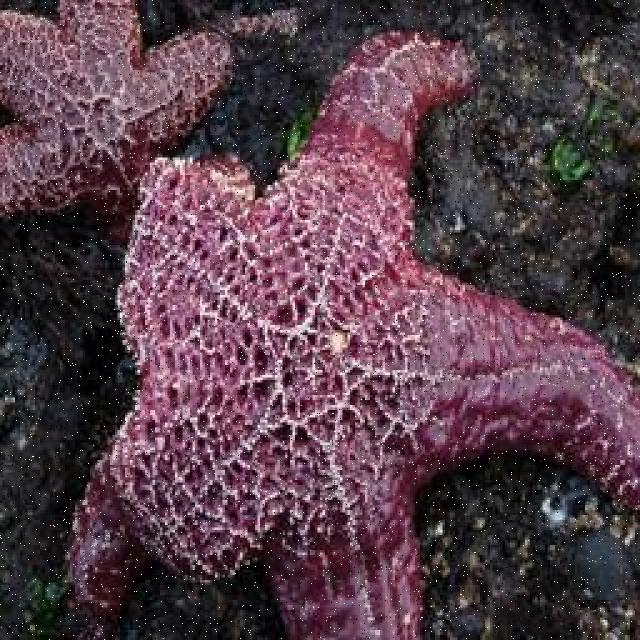reefs: (45, 30, 637, 638), (0, 1, 300, 225)
